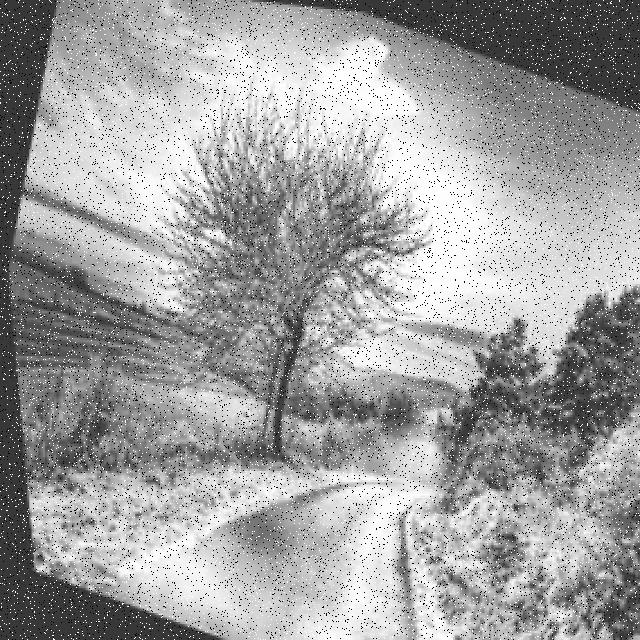ice-road: (76, 471, 426, 640)
